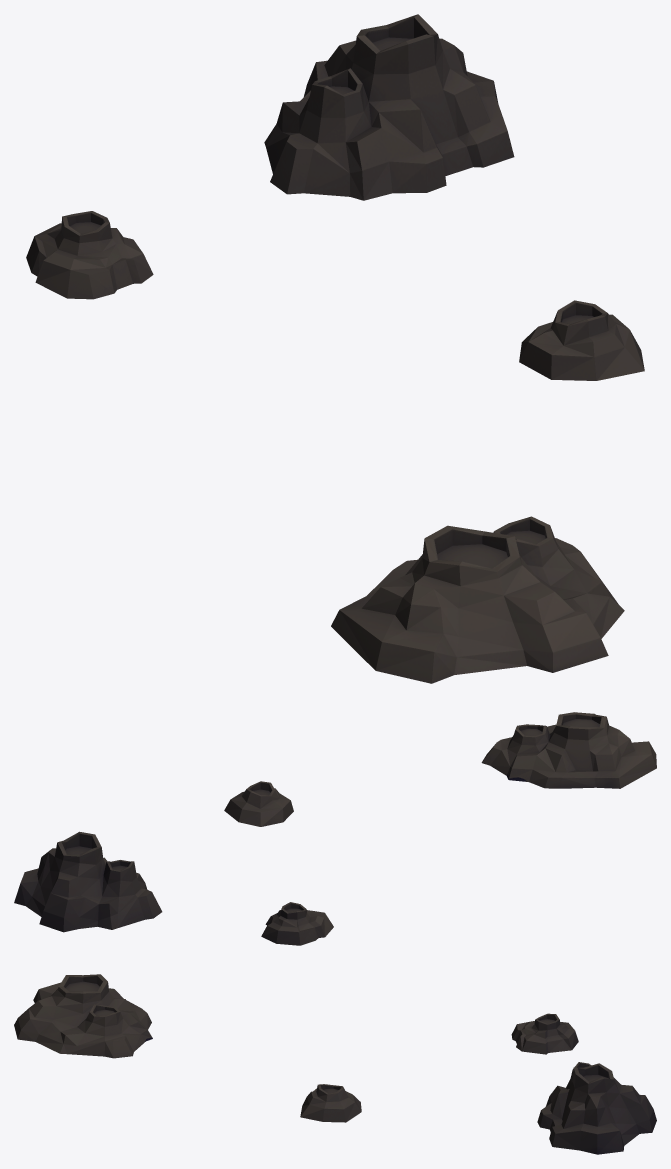
The model's file is Ground_03.FBX.
3 views of the same model, one above another, from view 1: azimuth 30°, elevation 25°; view 2: azimuth 150°, elevation 25°; view 3: azimuth 270°, elevation 25° (orthographic). The views are drawn at different scales.
Parts seen in each view (by area): view 1: Ground_03; view 2: Ground_03; view 3: Ground_03.
Boxes of the visible parts, bbox=[...] form: Ground_03: bbox=[26, 14, 644, 683]; Ground_03: bbox=[14, 712, 656, 945]; Ground_03: bbox=[14, 974, 656, 1154].
Size of the model in its own units: 12.97 by 2.2 by 21.81.
